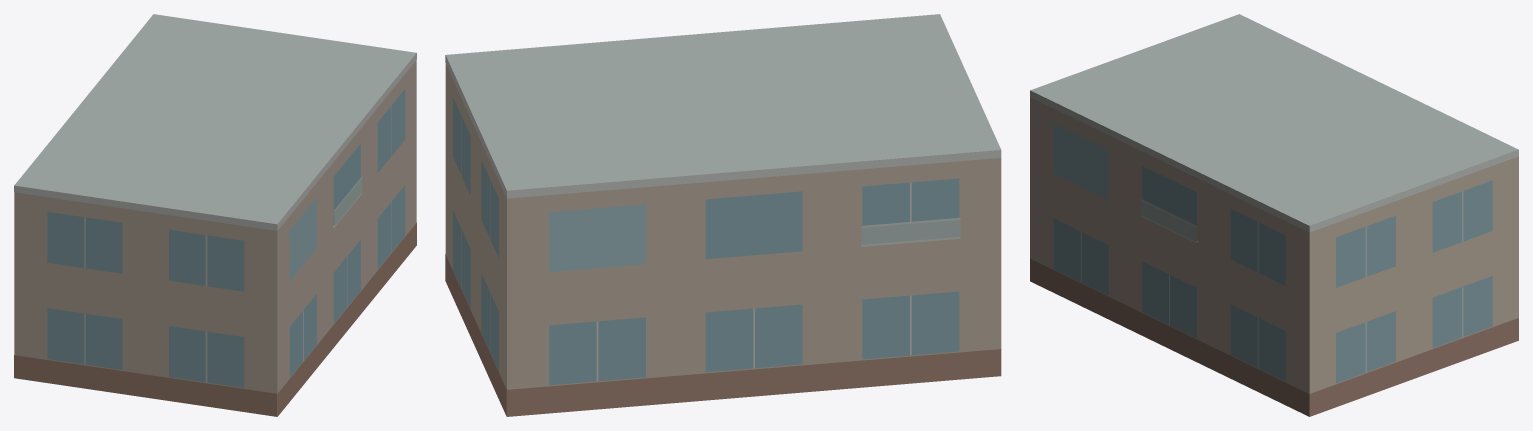
The model's file is survey-upis-32629289.glb.
The picture shows the model from 3 angles, left to right: view 1: azimuth 30°, elevation 25°; view 2: azimuth 150°, elevation 25°; view 3: azimuth 270°, elevation 25°; orthographic projection. The views are drawn at different scales.
Visible parts, largest first — view 1: survey-upis-32629289.tmp; view 2: survey-upis-32629289.tmp; view 3: survey-upis-32629289.tmp.
Part boxes in pixels (left/top/right/bottom): survey-upis-32629289.tmp: left=14, top=14, right=416, bottom=416; survey-upis-32629289.tmp: left=445, top=14, right=1001, bottom=416; survey-upis-32629289.tmp: left=1030, top=14, right=1518, bottom=416.
Bounding box in the file's own units: 16.67 × 7 × 16.25.
